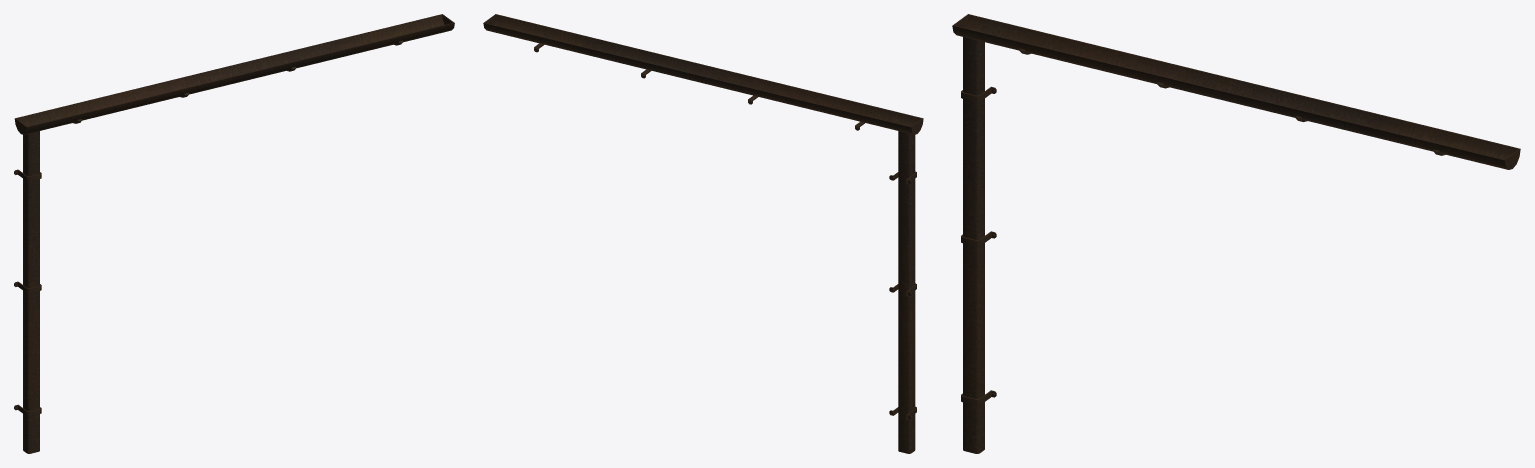
The model's file is rainwater_pipe_hl_1_singular.fbx.
The picture shows the model from 3 angles, left to right: view 1: azimuth 30°, elevation 25°; view 2: azimuth 150°, elevation 25°; view 3: azimuth 330°, elevation 25°; orthographic projection. The views are drawn at different scales.
Parts seen in each view (by area): view 1: rainwater_pipe_hl_1_singular; view 2: rainwater_pipe_hl_1_singular; view 3: rainwater_pipe_hl_1_singular.
Part boxes in pixels (x1,y1,x2,y2): rainwater_pipe_hl_1_singular: (14,14,454,453); rainwater_pipe_hl_1_singular: (483,14,923,453); rainwater_pipe_hl_1_singular: (952,14,1520,453).
Size of the model in its own units: 4 by 0.21 by 2.95.
